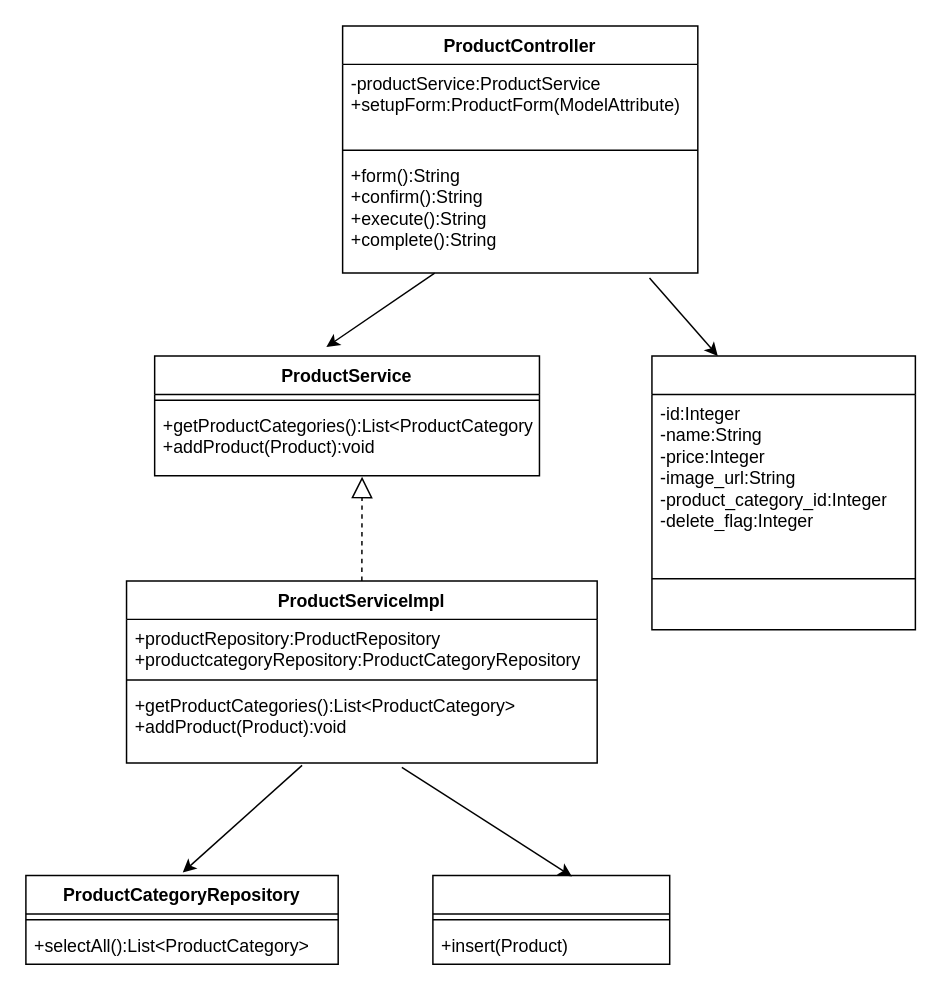
Some shapes in this 941 by 995 pixel diagram are drawn without their labels. The box of each missing label's shape, as (x1, y1, x2, y2) in pixels:
ProductForm: (650, 354, 915, 630)
ProductRepository: (431, 874, 670, 964)
